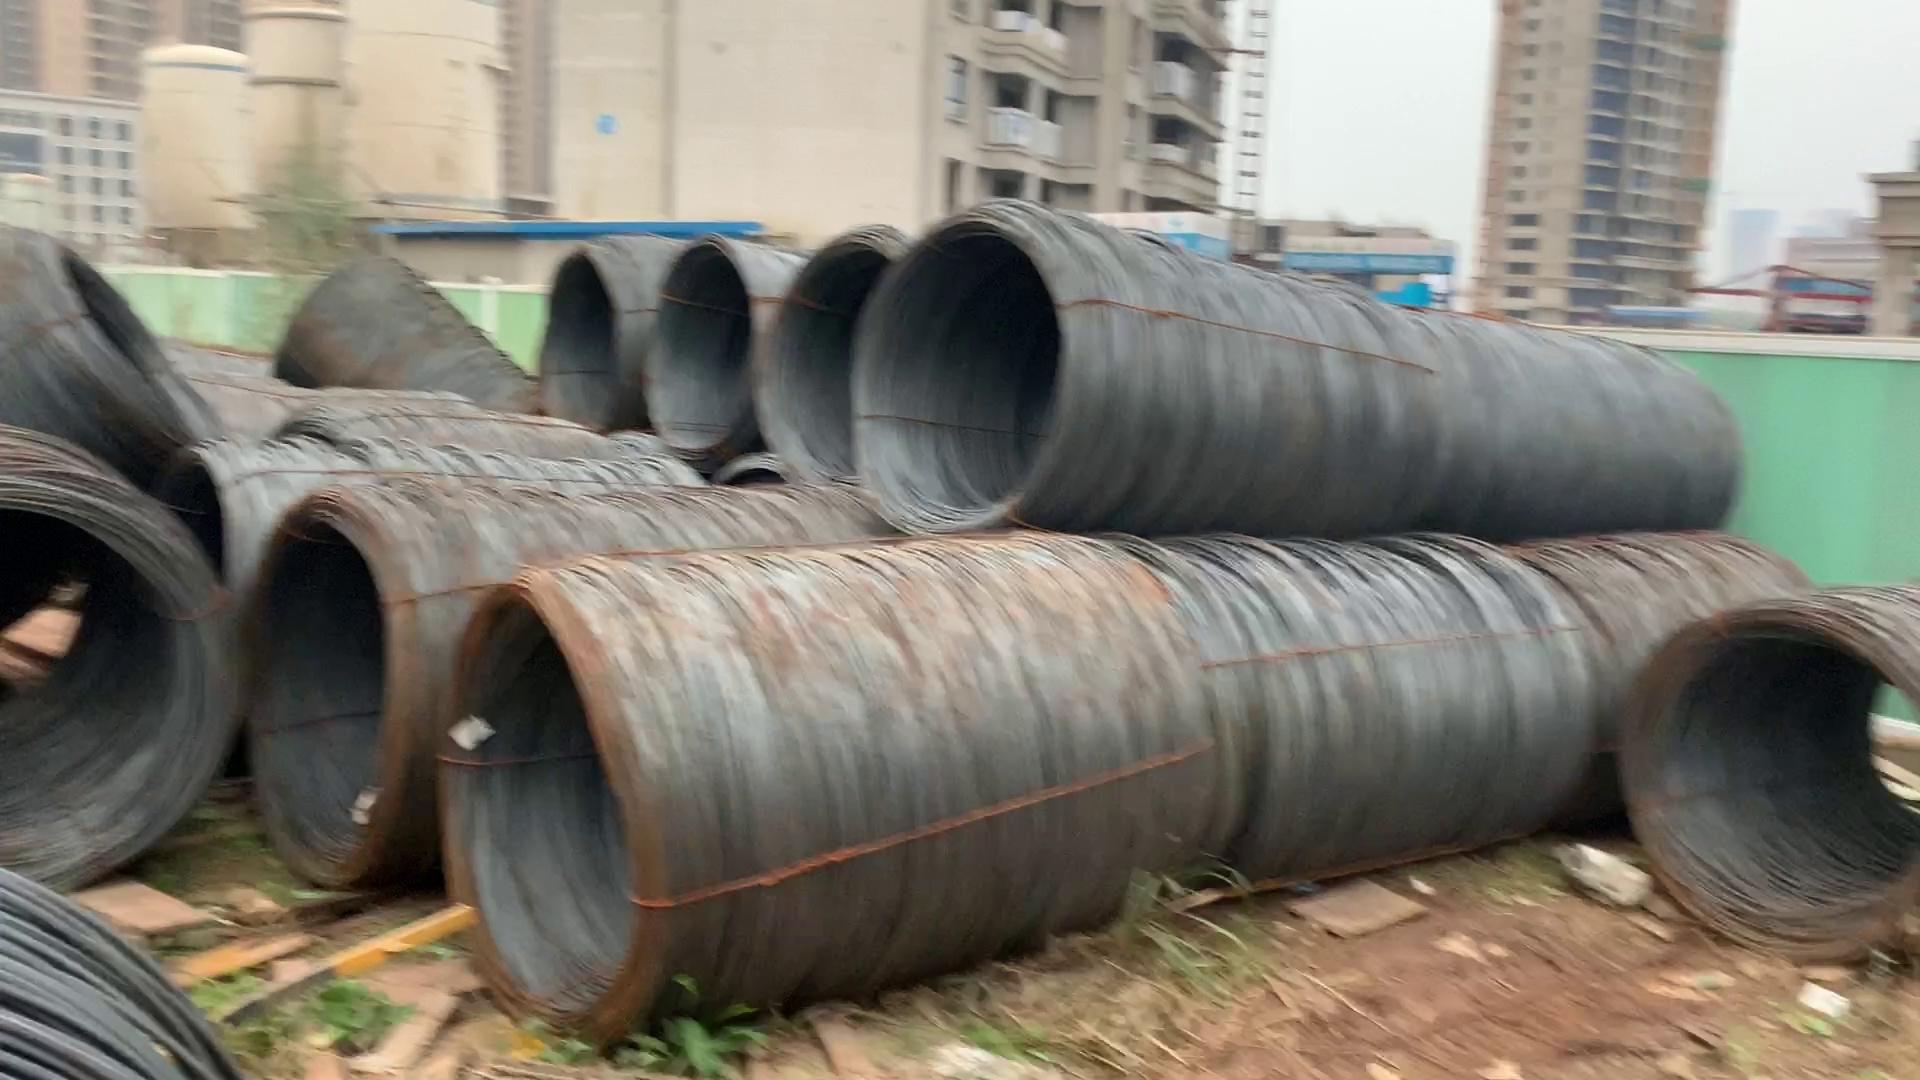coil: (448, 588, 676, 1052), (1, 462, 232, 895), (1640, 626, 1913, 971), (852, 216, 1083, 543), (252, 506, 415, 887), (44, 222, 232, 479), (757, 235, 913, 496), (644, 237, 754, 446), (527, 243, 629, 443)
